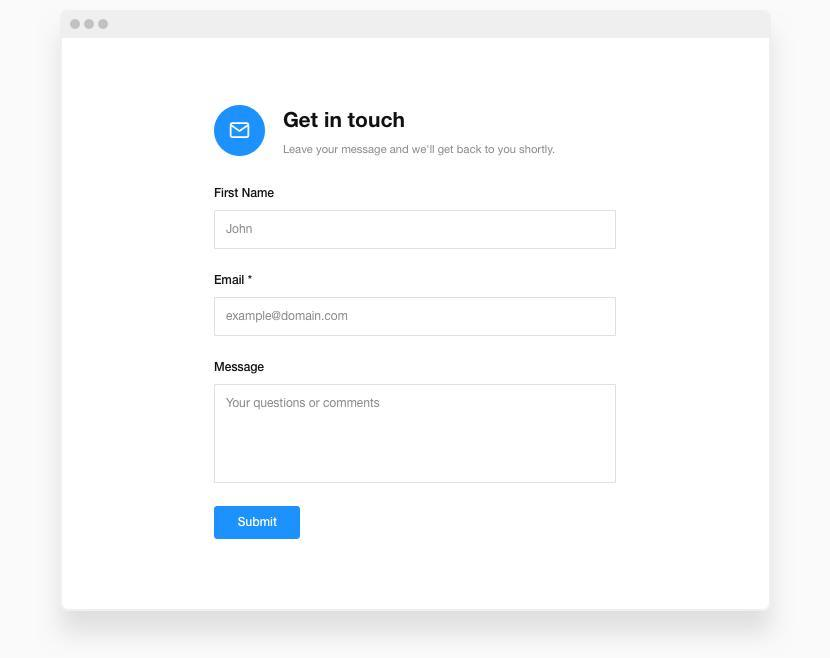button: (215, 506, 301, 541)
icon: (217, 104, 266, 157)
input: (216, 294, 614, 336), (215, 209, 616, 247)
label: (281, 107, 409, 134), (204, 351, 278, 386), (208, 184, 288, 203), (212, 270, 257, 294)
